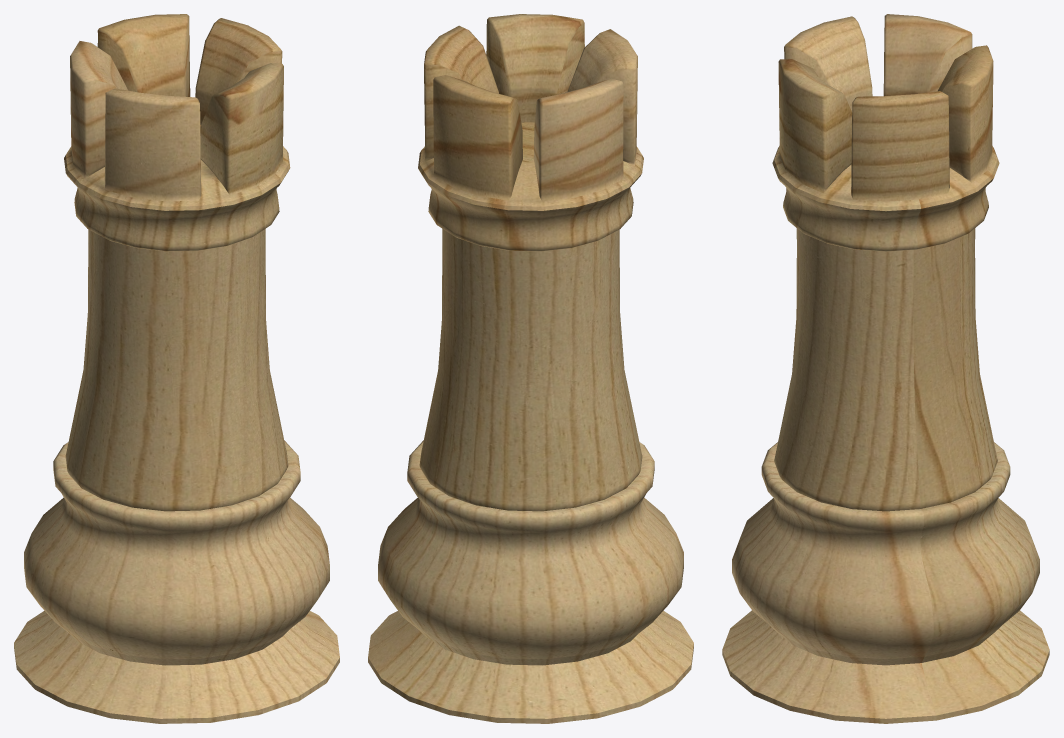
Rendered from White_Rook.dae.
The picture shows the model from 3 angles, left to right: view 1: azimuth 30°, elevation 25°; view 2: azimuth 150°, elevation 25°; view 3: azimuth 270°, elevation 25°; orthographic projection.
Visible parts, largest first — view 1: Rook; view 2: Rook; view 3: Rook.
Part boxes in pixels (left/top/right/bottom): Rook: left=14, top=14, right=339, bottom=723; Rook: left=368, top=14, right=693, bottom=723; Rook: left=722, top=14, right=1049, bottom=723.
Bounding box in the file's own units: 1.62 × 3.26 × 1.62.
1 material, 1 textured.
